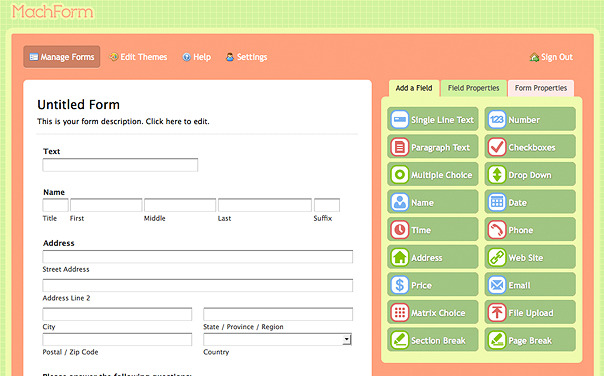_form_: (18, 41, 364, 364), (338, 72, 588, 368)
button: (385, 160, 480, 187), (385, 105, 479, 132), (386, 297, 480, 324), (386, 325, 480, 352), (386, 270, 479, 297), (483, 325, 576, 352), (387, 243, 479, 270), (386, 188, 480, 214), (483, 133, 577, 159), (386, 216, 479, 242), (482, 105, 575, 131), (484, 188, 577, 214), (483, 216, 576, 242), (484, 271, 577, 297), (484, 298, 577, 324), (484, 161, 576, 187), (386, 134, 478, 159), (484, 244, 576, 269)
field: (43, 247, 357, 265), (42, 277, 354, 292), (41, 156, 200, 175), (200, 304, 353, 320), (42, 332, 194, 347), (201, 332, 353, 346), (42, 307, 193, 321), (218, 197, 314, 213), (142, 198, 217, 214), (74, 197, 143, 213), (312, 197, 341, 214), (42, 198, 71, 214)
field_with_label: (41, 238, 359, 266), (39, 276, 355, 301), (39, 147, 202, 177), (199, 332, 355, 357), (40, 331, 195, 356), (201, 306, 354, 330), (40, 306, 194, 329), (216, 197, 313, 221), (70, 195, 144, 221), (143, 196, 218, 221), (40, 188, 70, 216), (312, 195, 343, 222)
